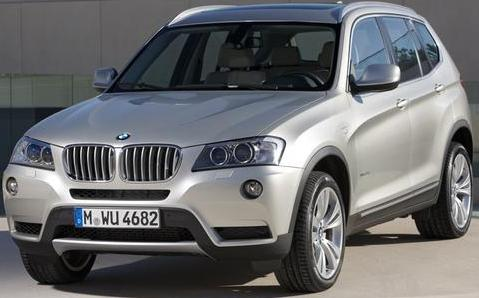front_view: (3, 128, 296, 256)
headlight: (190, 133, 288, 175)
side_glass: (341, 12, 444, 101)
